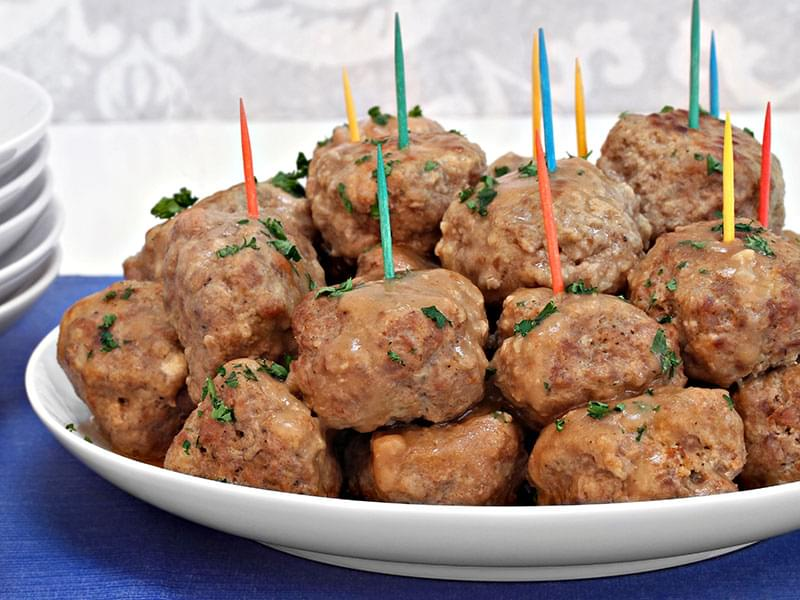meatballs: (66, 112, 800, 503)
